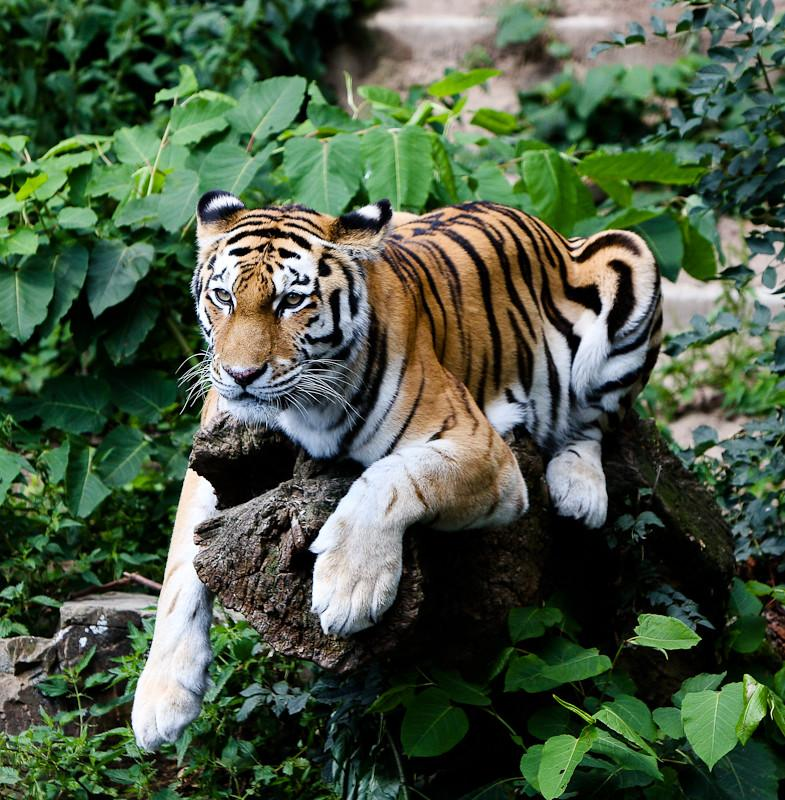tiger: (130, 190, 665, 755)
